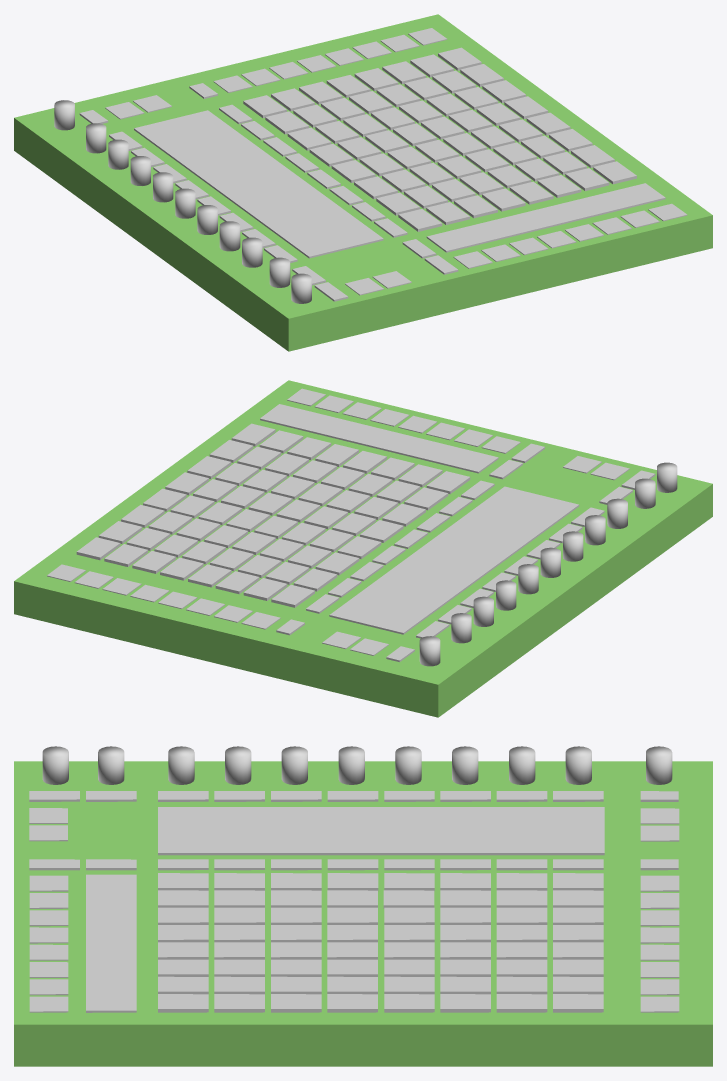
The model's file is DrumMachine.fbx.
3 views of the same model, one above another, from view 1: azimuth 30°, elevation 25°; view 2: azimuth 150°, elevation 25°; view 3: azimuth 270°, elevation 25° (orthographic). The views are drawn at different scales.
Visible parts, largest first — view 1: Cube.001, Cube.004, Cube.090, Cube.002, Cylinder.008, Cube.111; view 2: Cube.001, Cube.004, Cube.090, Cube.002, Cylinder.008, Cube.111; view 3: Cube.001, Cube.004, Cube.090, Cube.002, Cylinder.008, Cube.111.
Part boxes in pixels (x1,y1,x2,y2): Cube.001: (14, 14, 712, 351); Cube.004: (243, 47, 636, 231); Cube.090: (79, 28, 687, 301); Cube.002: (134, 110, 383, 258); Cylinder.008: (54, 100, 311, 303); Cube.111: (426, 183, 665, 252); Cube.001: (14, 380, 712, 717); Cube.004: (76, 423, 470, 607); Cube.090: (47, 388, 655, 662); Cube.002: (329, 486, 579, 634); Cylinder.008: (419, 462, 677, 666); Cube.111: (260, 404, 498, 473); Cube.001: (14, 761, 712, 1066); Cube.004: (158, 873, 603, 1012); Cube.090: (29, 791, 679, 1012); Cube.002: (158, 807, 604, 855); Cylinder.008: (42, 746, 672, 784); Cube.111: (86, 874, 136, 1012).
Bounding box in the file's own units: 3050 × 375 × 3419.
